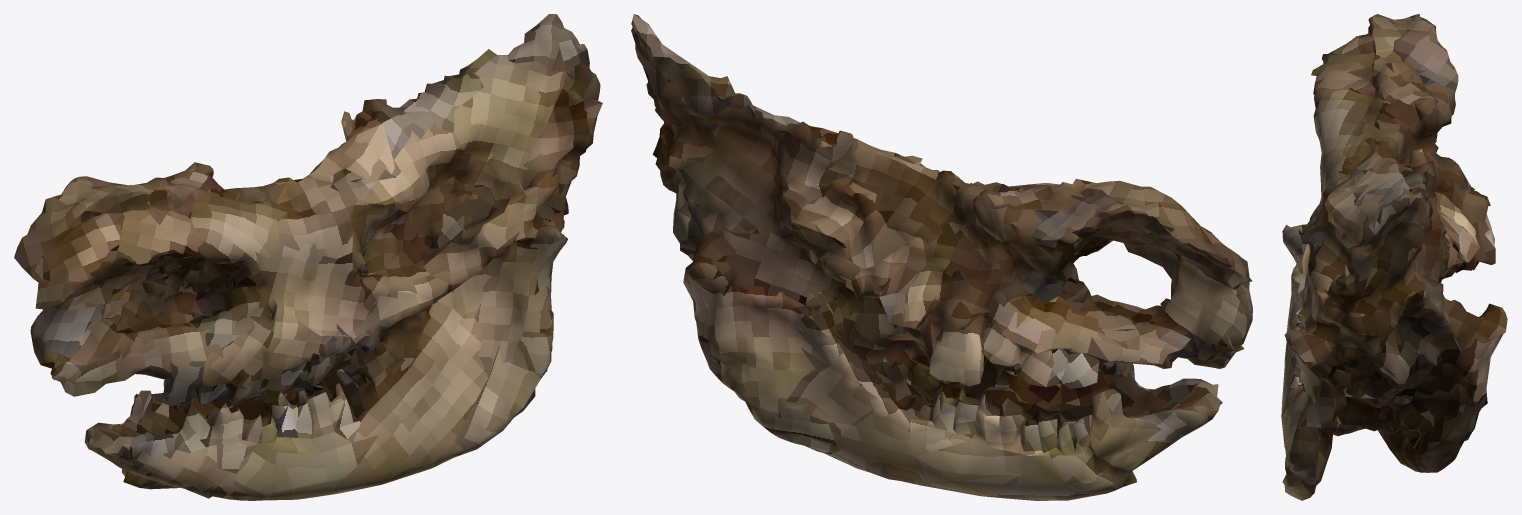
The picture shows the model from 3 angles, left to right: view 1: azimuth 30°, elevation 25°; view 2: azimuth 150°, elevation 25°; view 3: azimuth 270°, elevation 25°; orthographic projection. The views are drawn at different scales.
Visible parts, largest first — view 1: rino_LP; view 2: rino_LP; view 3: rino_LP.
Boxes of the visible parts, x1,y1,x2,y2 form: rino_LP: (14,14,602,500); rino_LP: (631,14,1252,500); rino_LP: (1281,14,1507,500).
Size of the model in its own units: 0.6664 by 0.4246 by 0.2244.
1 material, 1 textured.
